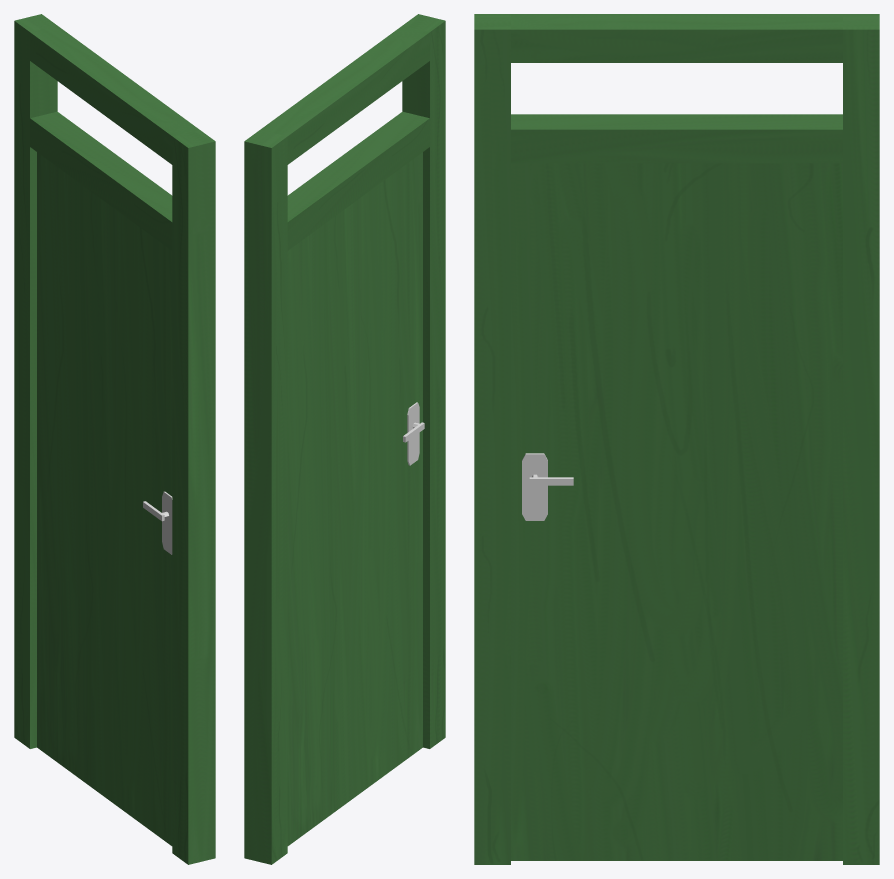
File: Pintu_Kamar.fbx
3 views of the same model, side by side, from view 1: azimuth 30°, elevation 25°; view 2: azimuth 150°, elevation 25°; view 3: azimuth 270°, elevation 25° (orthographic). The views are drawn at different scales.
Visible parts, largest first — view 1: Pintu_Kamar, Pintu_Kamar_Kusen, Pintu_Kamar.001; view 2: Pintu_Kamar, Pintu_Kamar_Kusen, Pintu_Kamar.001; view 3: Pintu_Kamar, Pintu_Kamar_Kusen, Pintu_Kamar.001.
Boxes of the visible parts, x1,y1,x2,y2 form: Pintu_Kamar: (37,152,172,845); Pintu_Kamar_Kusen: (14,14,215,864); Pintu_Kamar.001: (143,491,172,554); Pintu_Kamar: (287,152,422,845); Pintu_Kamar_Kusen: (244,14,445,864); Pintu_Kamar.001: (403,402,424,465); Pintu_Kamar: (511,163,842,860); Pintu_Kamar_Kusen: (474,14,879,864); Pintu_Kamar.001: (522,453,573,520).
Bounding box in the file's own units: 12 × 250 × 110.
3 materials, 2 textured.
